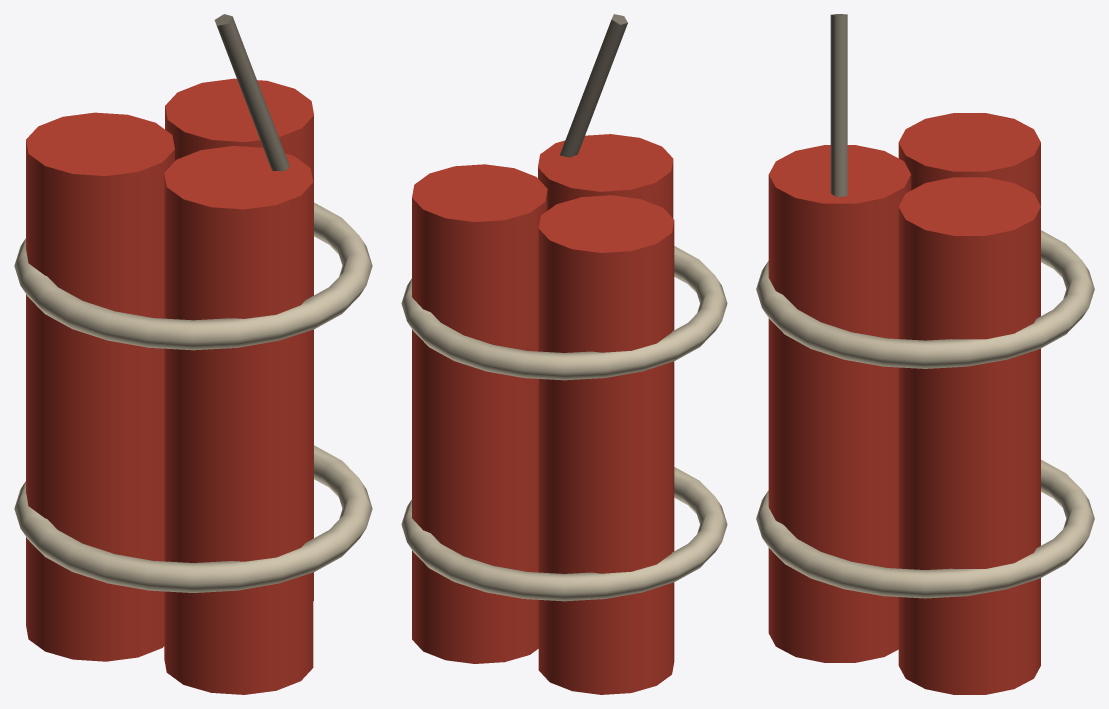
Rendered from dynamite.glb.
3 renders of one model, left to right at view 1: azimuth 30°, elevation 25°; view 2: azimuth 150°, elevation 25°; view 3: azimuth 270°, elevation 25°, orthographic. The views are drawn at different scales.
Visible parts, largest first — view 1: dynamite_kit; view 2: dynamite_kit; view 3: dynamite_kit.
Boxes of the visible parts, <box> form: dynamite_kit: <box>14,14,372,694</box>; dynamite_kit: <box>401,14,727,694</box>; dynamite_kit: <box>756,14,1094,694</box>.
Bounding box in the file's own units: 0.1998 × 0.3999 × 0.1998.
